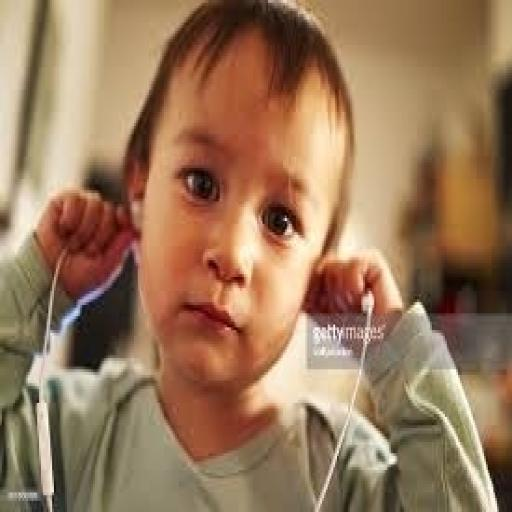listening_to_music: (2, 0, 501, 509)
